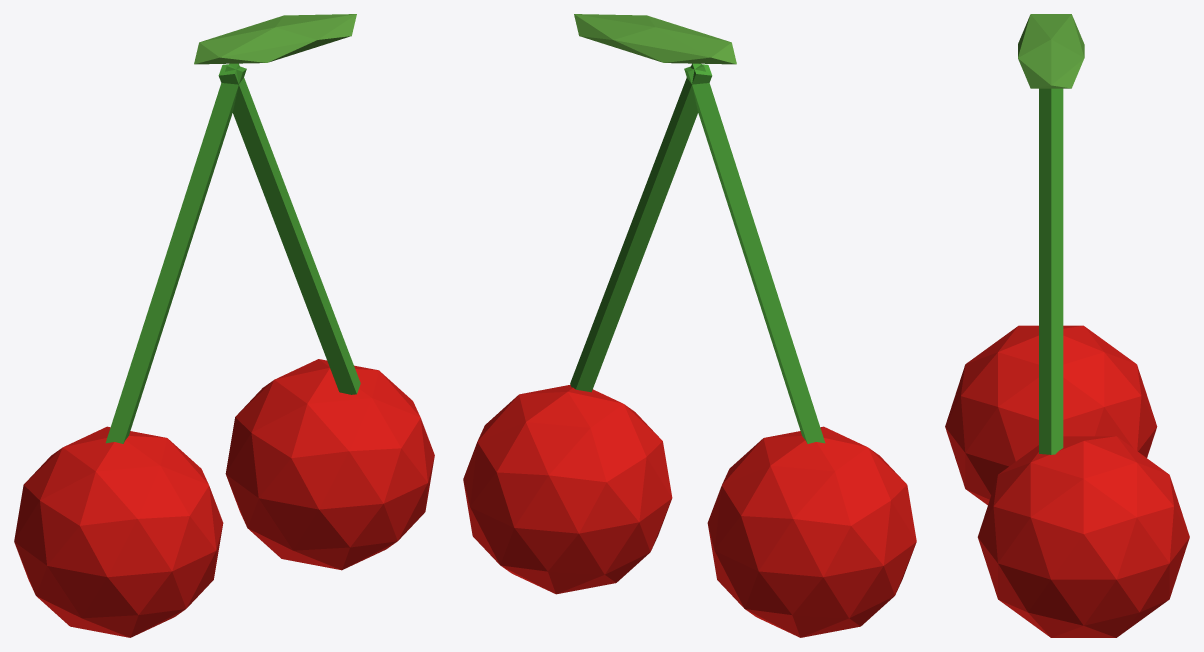
Rendered from cherries.glb.
3 views of the same model, side by side, from view 1: azimuth 30°, elevation 25°; view 2: azimuth 150°, elevation 25°; view 3: azimuth 270°, elevation 25° (orthographic).
Visible parts, largest first — view 1: cherries; view 2: cherries; view 3: cherries.
Part boxes in pixels (box(x1,y1,x2,y2)): cherries: box(14, 14, 434, 637); cherries: box(463, 14, 916, 637); cherries: box(945, 14, 1189, 637).
Size of the model in its own units: 0.0567 by 0.0756 by 0.03.
